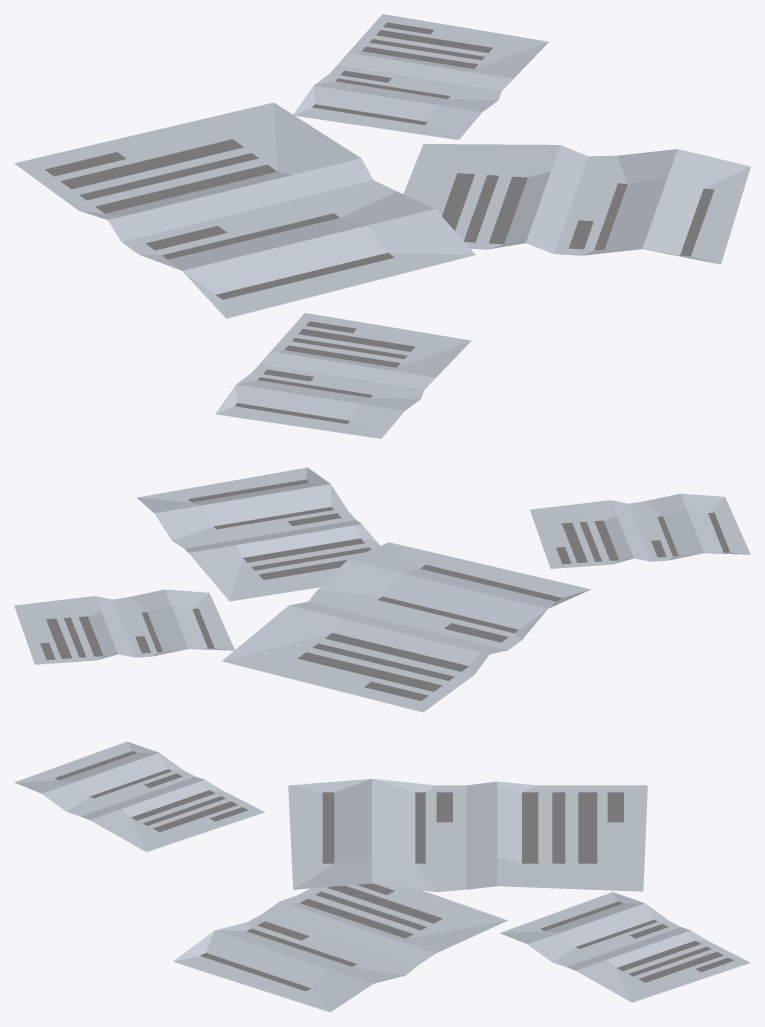
File: model_papers_01.fbx
The picture shows the model from 3 angles, top to bottom: view 1: azimuth 30°, elevation 25°; view 2: azimuth 150°, elevation 25°; view 3: azimuth 270°, elevation 25°; orthographic projection. The views are drawn at different scales.
Parts seen in each view (by area): view 1: model_papers_01; view 2: model_papers_01; view 3: model_papers_01.
Boxes of the visible parts, x1,y1,x2,y2 form: model_papers_01: (14, 14, 750, 438); model_papers_01: (14, 467, 750, 712); model_papers_01: (14, 741, 750, 1012).
Bounding box in the file's own units: 144 × 2.2 × 166.
1 material, 1 textured.
